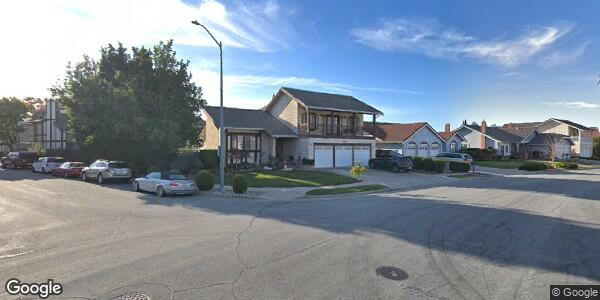Steel_Pole: (188, 18, 229, 193)
